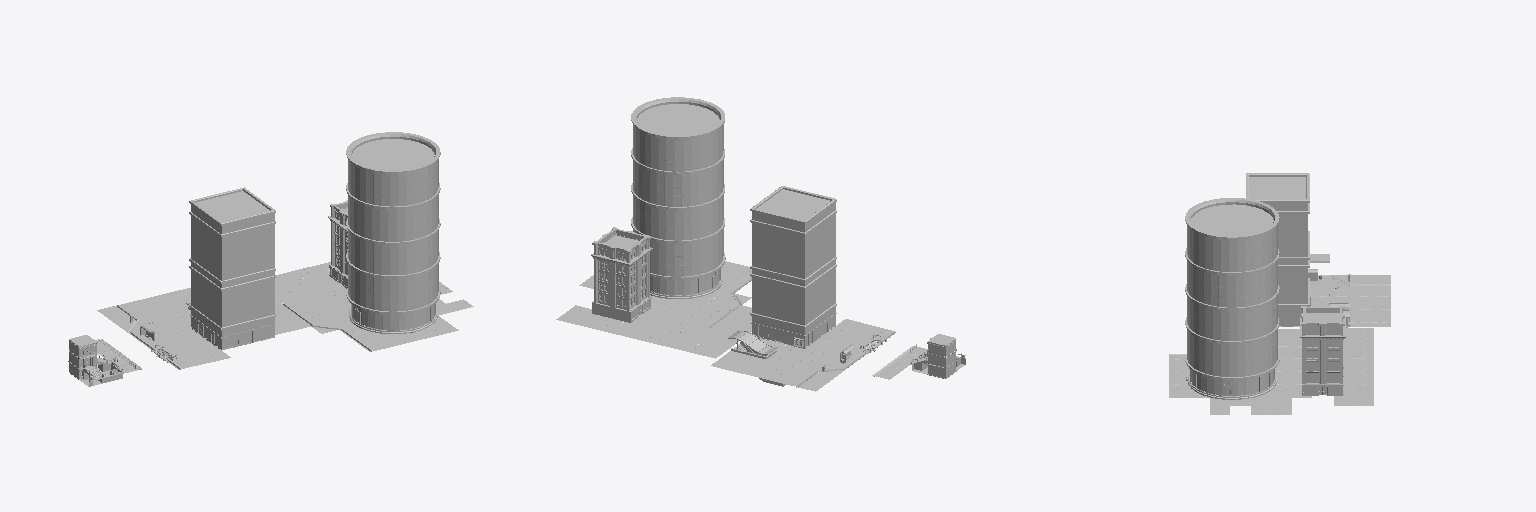
File: start_chunk_LOD_0.obj
3 views of the same model, side by side, from view 1: azimuth 30°, elevation 25°; view 2: azimuth 150°, elevation 25°; view 3: azimuth 270°, elevation 25° (orthographic).
Parts seen in each view (by area): view 1: LOD_0_SM_Bld_Apartment_Corner_02_Scene.035; view 2: LOD_0_SM_Bld_Apartment_Corner_02_Scene.035; view 3: LOD_0_SM_Bld_Apartment_Corner_02_Scene.035.
Part boxes in pixels (bbox=[...]): LOD_0_SM_Bld_Apartment_Corner_02_Scene.035: bbox=[68, 132, 473, 386]; LOD_0_SM_Bld_Apartment_Corner_02_Scene.035: bbox=[556, 97, 965, 391]; LOD_0_SM_Bld_Apartment_Corner_02_Scene.035: bbox=[1169, 173, 1390, 414].
Bounding box in the file's own units: 103 × 50.31 × 54.19.